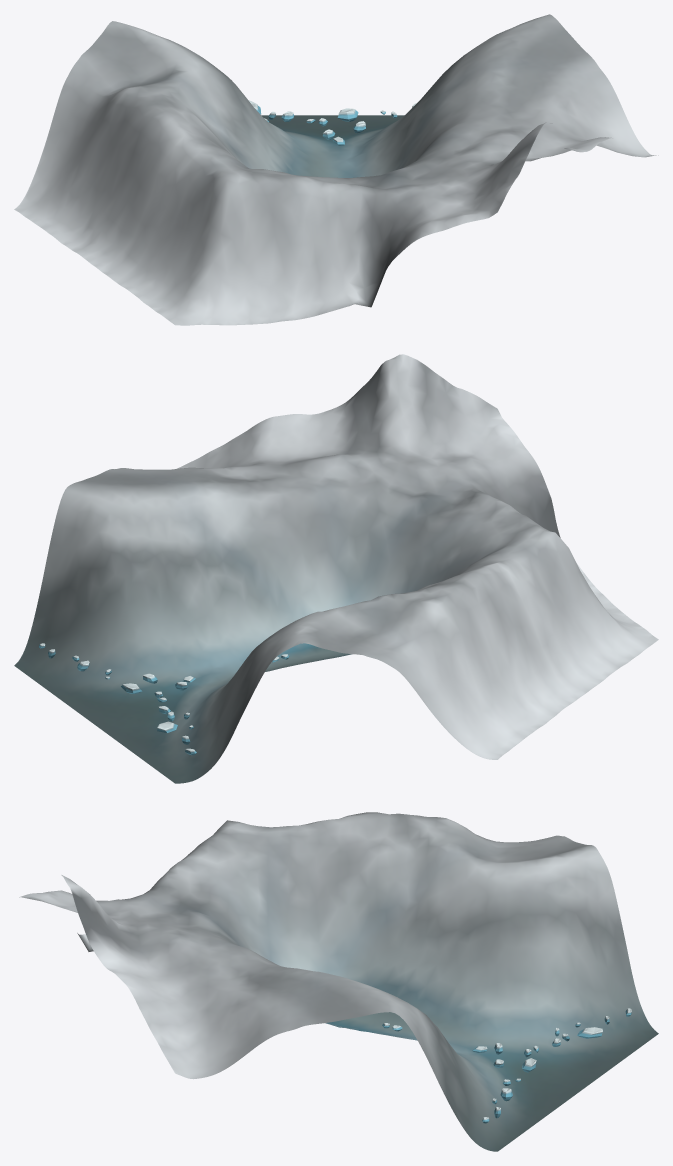
Rendered from costa_+06_-09.glb.
The picture shows the model from 3 angles, top to bottom: view 1: azimuth 30°, elevation 25°; view 2: azimuth 150°, elevation 25°; view 3: azimuth 270°, elevation 25°; orthographic projection.
Visible parts, largest first — view 1: terrain, Formações costeiras; view 2: terrain, Formações costeiras; view 3: terrain, Formações costeiras.
Part boxes in pixels (left/top/right/bottom): terrain: left=14, top=14, right=658, bottom=325; Formações costeiras: left=248, top=100, right=416, bottom=145; terrain: left=14, top=354, right=658, bottom=783; Formações costeiras: left=39, top=643, right=289, bottom=755; terrain: left=19, top=812, right=658, bottom=1151; Formações costeiras: left=382, top=1008, right=631, bottom=1123.
Bounding box in the file's own units: 4330 × 1654 × 5000.
Materials: 1 (1 with a texture image).
